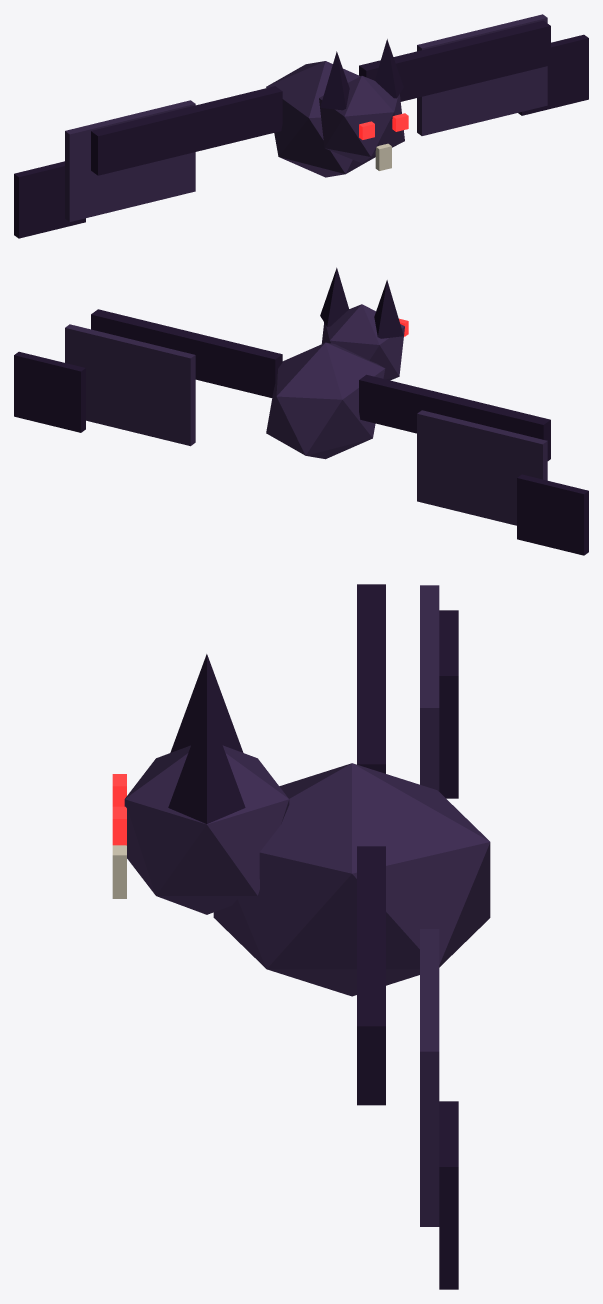
File: bat.glb
3 views of the same model, one above another, from view 1: azimuth 30°, elevation 25°; view 2: azimuth 150°, elevation 25°; view 3: azimuth 270°, elevation 25° (orthographic). The views are drawn at different scales.
Parts seen in each view (by area): view 1: wingL_a, wingR_a, wingL_b, wingR_b, body, headm, wingL_c, wingR_c, earL, earR, fang; view 2: wingR_b, wingL_b, body, wingR_a, wingL_a, wingL_c, wingR_c, headm, earL, earR; view 3: body, headm, wingR_a, wingR_b, wingL_a, earR, wingL_b, wingR_c, wingL_c, earL.
Boxes of the visible parts, left/top/right/bottom form: wingL_a: left=91, top=86, right=282, bottom=175; wingR_a: left=359, top=20, right=550, bottom=101; wingL_b: left=65, top=100, right=195, bottom=221; wingR_b: left=417, top=14, right=547, bottom=135; body: left=266, top=61, right=375, bottom=177; headm: left=319, top=76, right=404, bottom=163; wingL_c: left=14, top=161, right=85, bottom=238; wingR_c: left=518, top=34, right=588, bottom=115; earL: left=320, top=51, right=349, bottom=110; earR: left=375, top=39, right=403, bottom=98; fang: left=375, top=143, right=391, bottom=170; wingR_b: left=65, top=324, right=195, bottom=446; wingL_b: left=417, top=410, right=547, bottom=525; body: left=266, top=342, right=385, bottom=459; wingR_a: left=91, top=309, right=282, bottom=397; wingL_a: left=359, top=374, right=550, bottom=460; wingL_c: left=517, top=474, right=588, bottom=555; wingR_c: left=14, top=351, right=85, bottom=432; headm: left=321, top=304, right=404, bottom=380; earL: left=374, top=280, right=403, bottom=338; earR: left=320, top=267, right=348, bottom=326; body: left=213, top=763, right=490, bottom=996; headm: left=124, top=745, right=289, bottom=914; wingR_a: left=357, top=846, right=385, bottom=1105; wingR_b: left=420, top=929, right=439, bottom=1226; wingL_a: left=357, top=584, right=385, bottom=773; earR: left=168, top=703, right=245, bottom=823; wingL_b: left=420, top=585, right=439, bottom=791; wingR_c: left=439, top=1101, right=458, bottom=1289; wingL_c: left=439, top=610, right=458, bottom=798; earL: left=170, top=654, right=243, bottom=752.
Size of the model in its own units: 1.36 by 0.38 by 0.3904.
